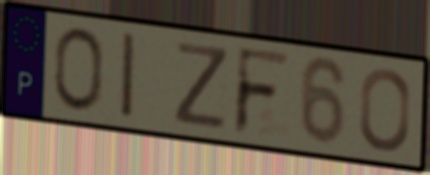6: (296, 53, 353, 151)
F: (231, 43, 294, 139)
I: (120, 29, 138, 124)
O: (357, 66, 413, 154), (52, 24, 106, 115)
Z: (172, 39, 232, 133)
